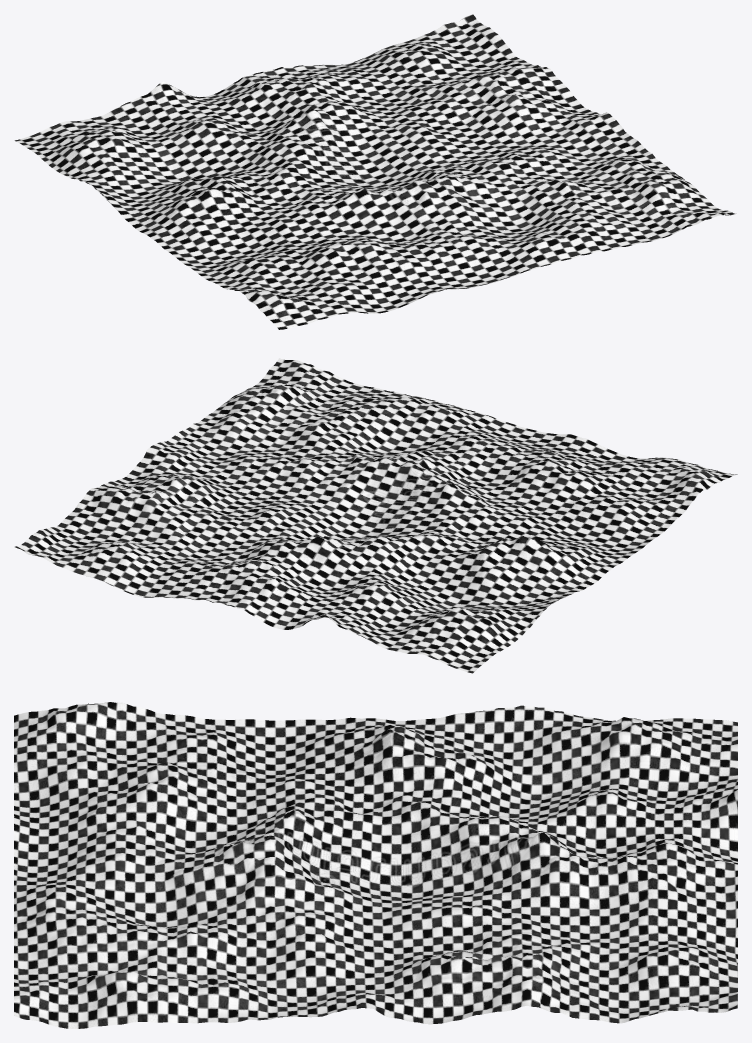
The model's file is heightMapSceneT.glb.
3 renders of one model, top to bottom at view 1: azimuth 30°, elevation 25°; view 2: azimuth 150°, elevation 25°; view 3: azimuth 270°, elevation 25°, orthographic. The views are drawn at different scales.
Parts seen in each view (by area): view 1: Landscape; view 2: Landscape; view 3: Landscape.
Boxes of the visible parts, x1,y1,x2,y2 form: Landscape: (14, 14, 736, 329); Landscape: (14, 358, 737, 673); Landscape: (14, 702, 737, 1028).
Size of the model in its own units: 1000 by 76.3 by 1000.
Materials: 1 (1 with a texture image).
